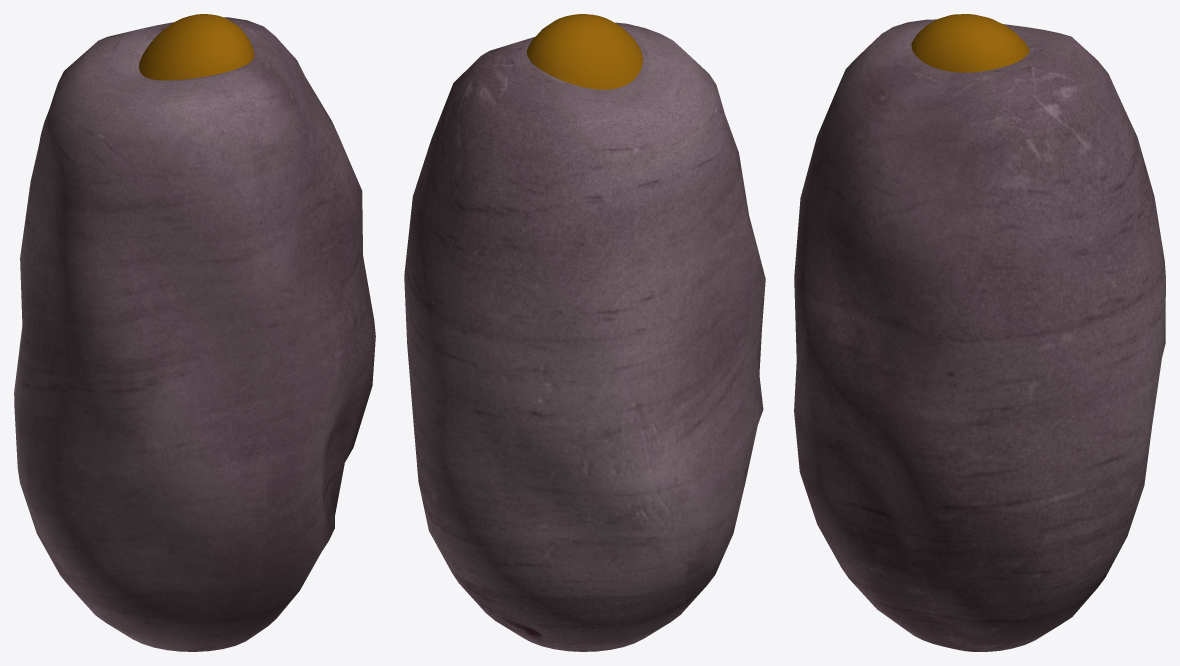
File: Dates purple high poly.FBX
The picture shows the model from 3 angles, left to right: view 1: azimuth 30°, elevation 25°; view 2: azimuth 150°, elevation 25°; view 3: azimuth 270°, elevation 25°; orthographic projection.
Visible parts, largest first — view 1: Sphere001; view 2: Sphere001; view 3: Sphere001.
Part boxes in pixels (x1,y1,x2,y2): Sphere001: (14, 14, 375, 651); Sphere001: (404, 14, 765, 651); Sphere001: (794, 14, 1165, 651).
Bounding box in the file's own units: 48.92 × 93.06 × 50.07.
